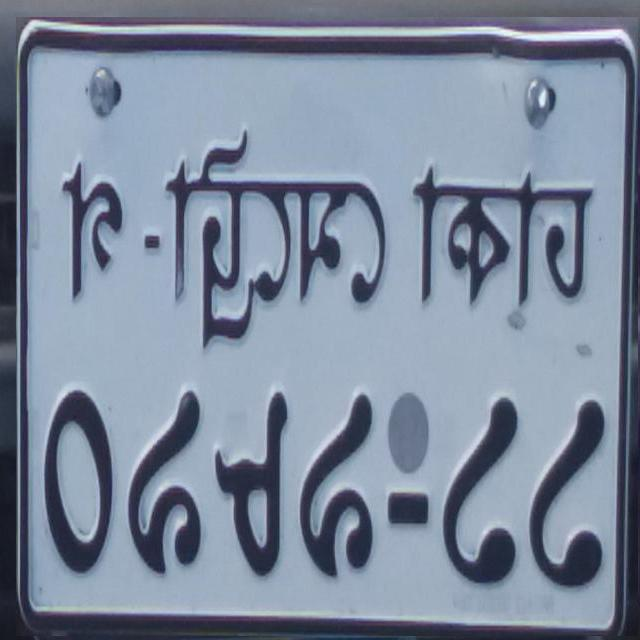numberplate: (16, 17, 638, 636)
